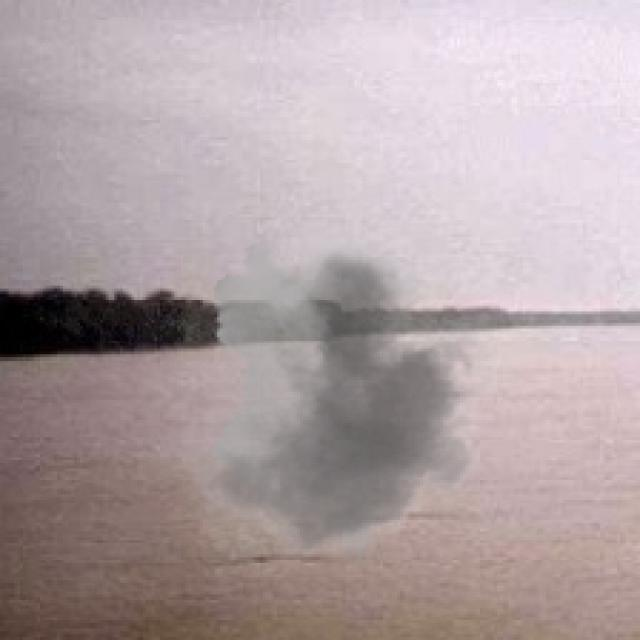Smoke: (135, 220, 520, 580)
